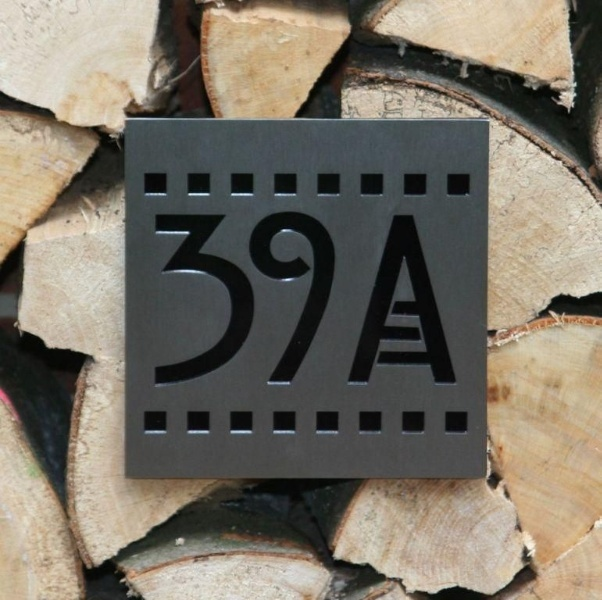text: (145, 210, 160, 387), (161, 210, 176, 387), (177, 210, 192, 387), (193, 210, 208, 387), (209, 210, 224, 387), (225, 210, 240, 387), (241, 210, 256, 387), (257, 210, 272, 387), (273, 210, 288, 387), (289, 210, 304, 387), (305, 210, 320, 387), (321, 210, 336, 387), (353, 213, 368, 388), (369, 213, 384, 388), (385, 213, 400, 388), (401, 213, 416, 388), (417, 213, 432, 388), (433, 213, 448, 388), (449, 213, 460, 388), (348, 213, 352, 388), (337, 210, 338, 387)
